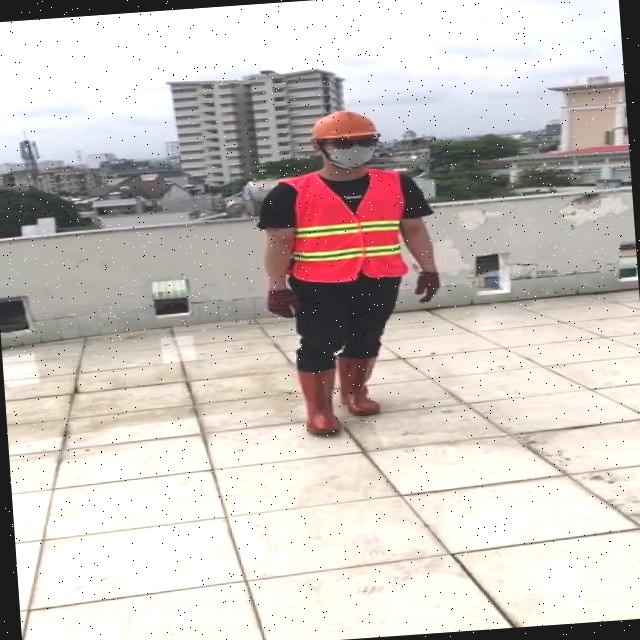boots: (294, 366, 342, 438), (337, 352, 387, 414)
